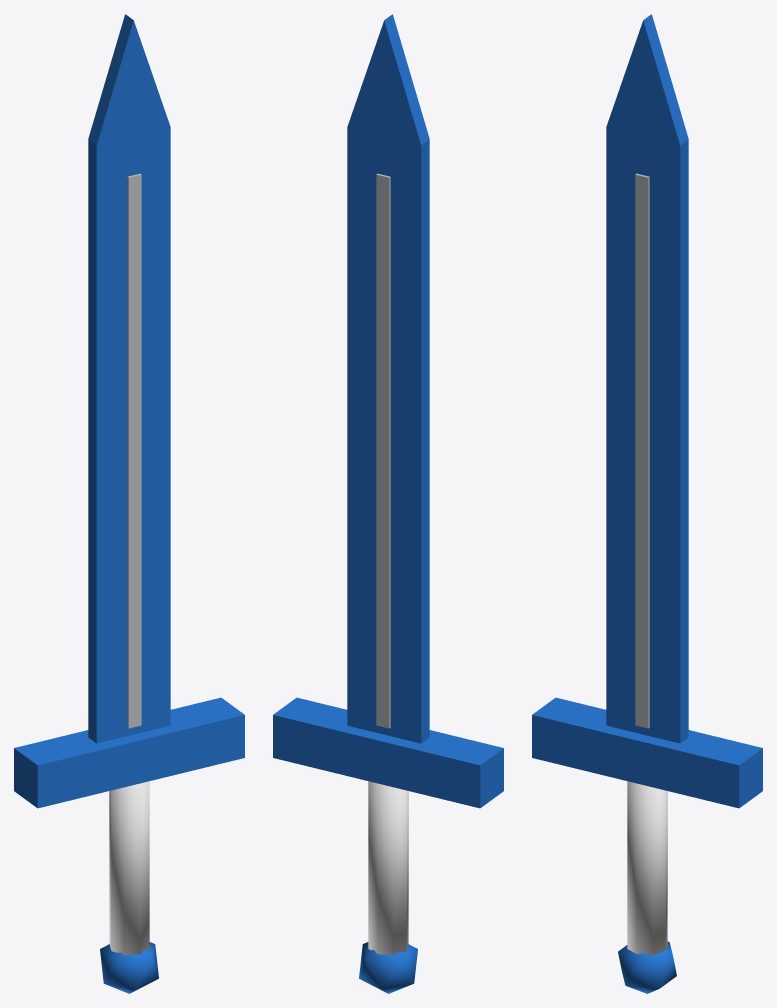
Rendered from cobalt_broadsword.glb.
3 renders of one model, left to right at view 1: azimuth 30°, elevation 25°; view 2: azimuth 150°, elevation 25°; view 3: azimuth 330°, elevation 25°, orthographic.
Visible parts, largest first — view 1: cobalt_broadsword_v0; view 2: cobalt_broadsword_v0; view 3: cobalt_broadsword_v0.
Boxes of the visible parts, x1,y1,x2,y2 form: cobalt_broadsword_v0: [14, 14, 244, 993]; cobalt_broadsword_v0: [273, 14, 503, 993]; cobalt_broadsword_v0: [532, 14, 762, 993].
Bounding box in the file's own units: 0.252 × 1.13 × 0.0595.
